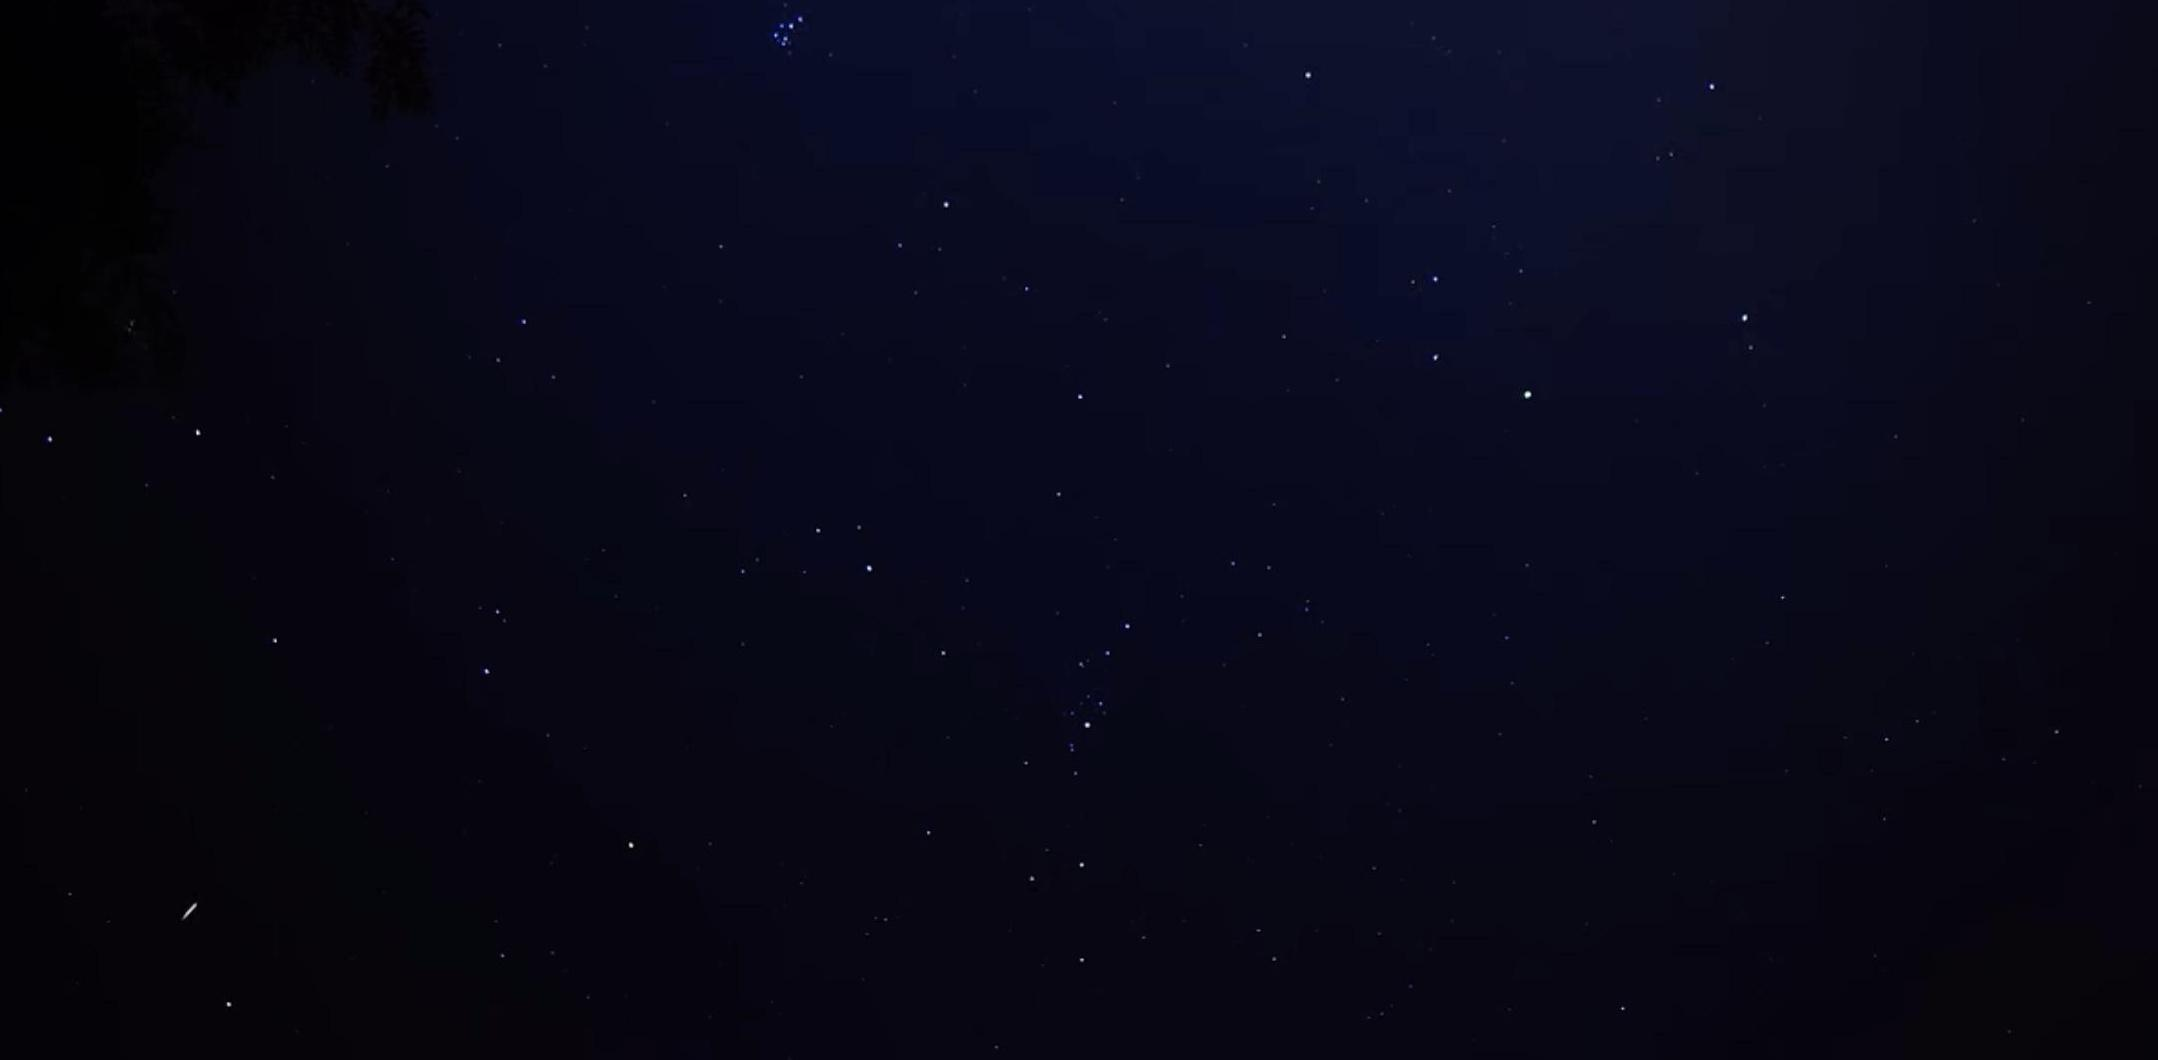meteorite: (140, 887, 235, 933)
